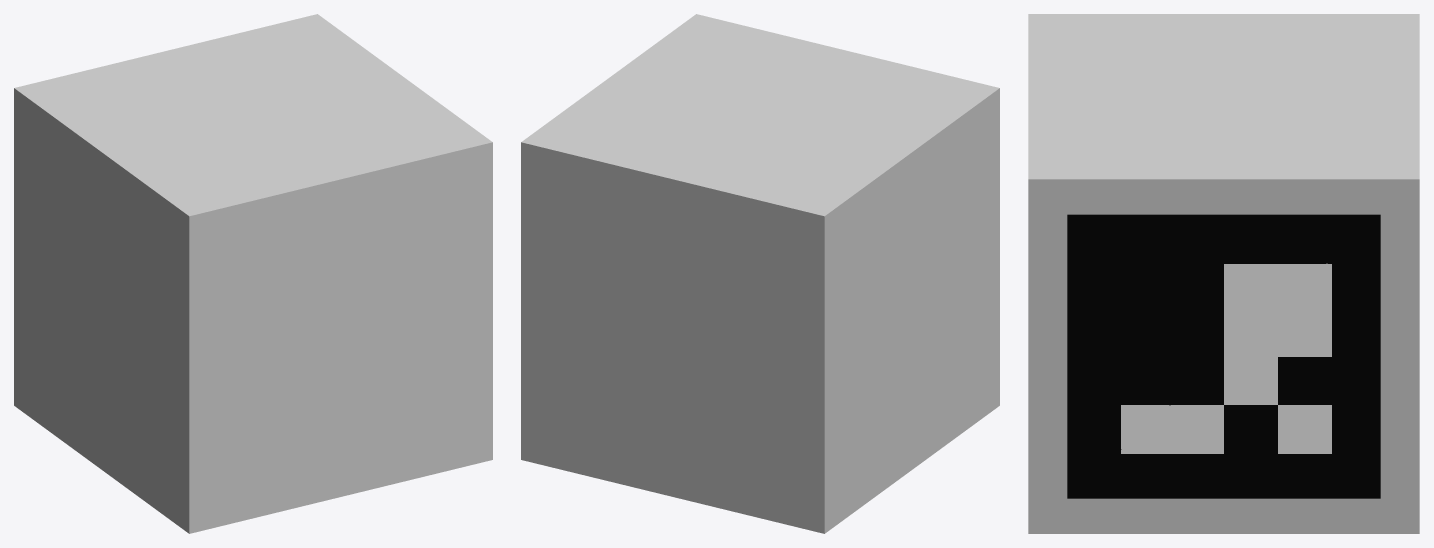
The model's file is robot_tag_2.dae.
3 views of the same model, side by side, from view 1: azimuth 30°, elevation 25°; view 2: azimuth 150°, elevation 25°; view 3: azimuth 270°, elevation 25° (orthographic). The views are drawn at different scales.
Parts seen in each view (by area): view 1: Cube; view 2: Cube; view 3: Cube.
Part boxes in pixels (x1=…): Cube: x1=14, y1=14, x2=492, y2=533; Cube: x1=521, y1=14, x2=999, y2=533; Cube: x1=1028, y1=14, x2=1419, y2=533.
Bounding box in the file's own units: 0.2 × 0.2 × 0.2.
